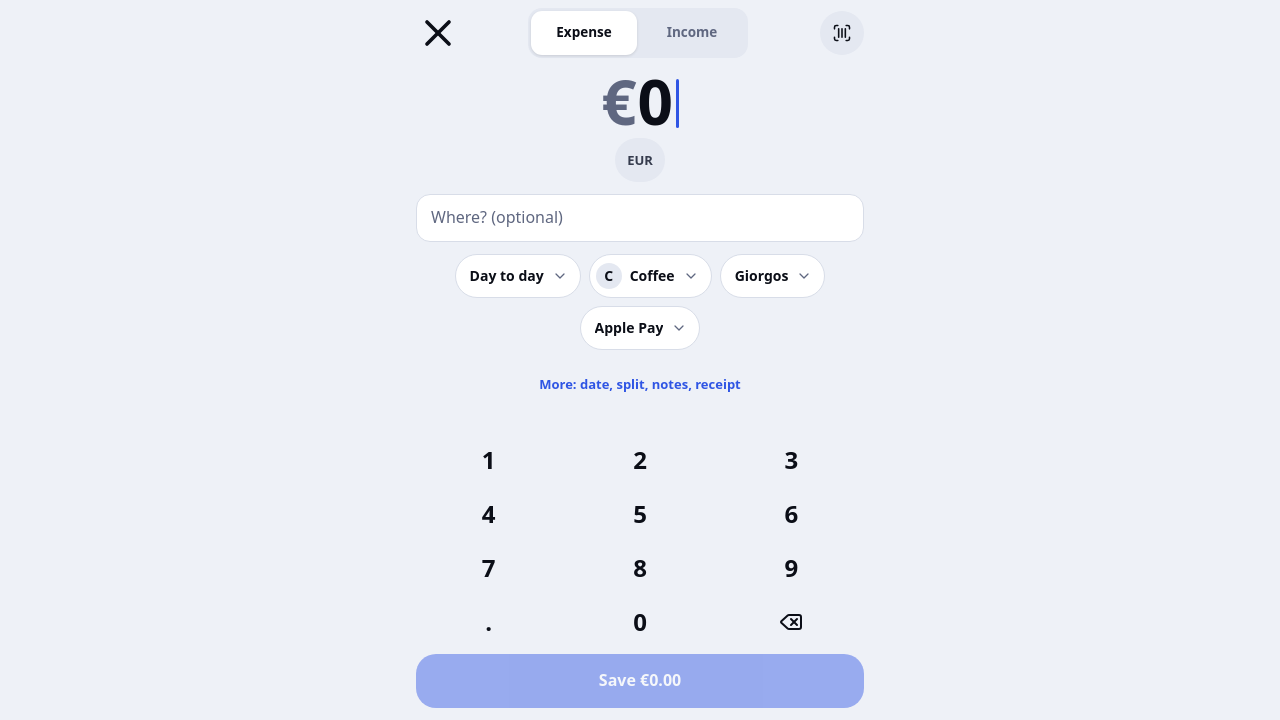
it: picking the currency from More goes back to More
Click the button with aria-label "More options" at (640, 384), box [527,362,753,406]
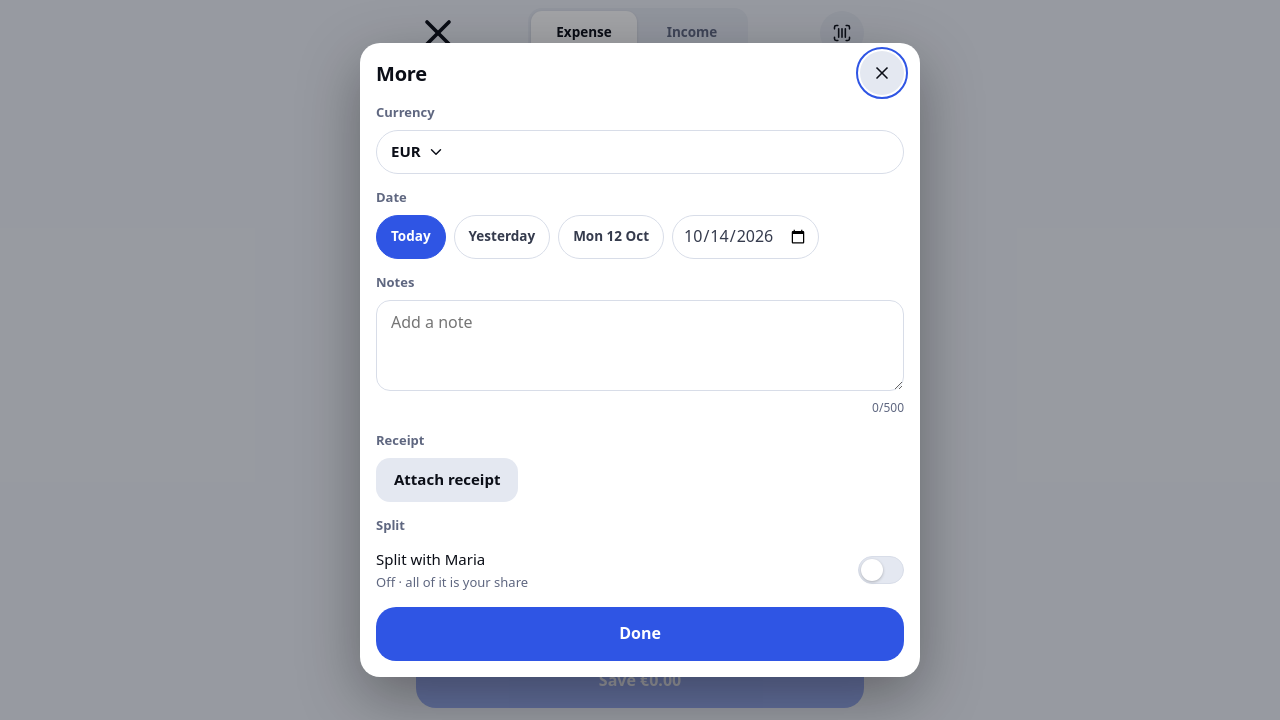
Click the button with aria-label "Currency: EUR. Change" at (406, 151), box [376,130,904,174]
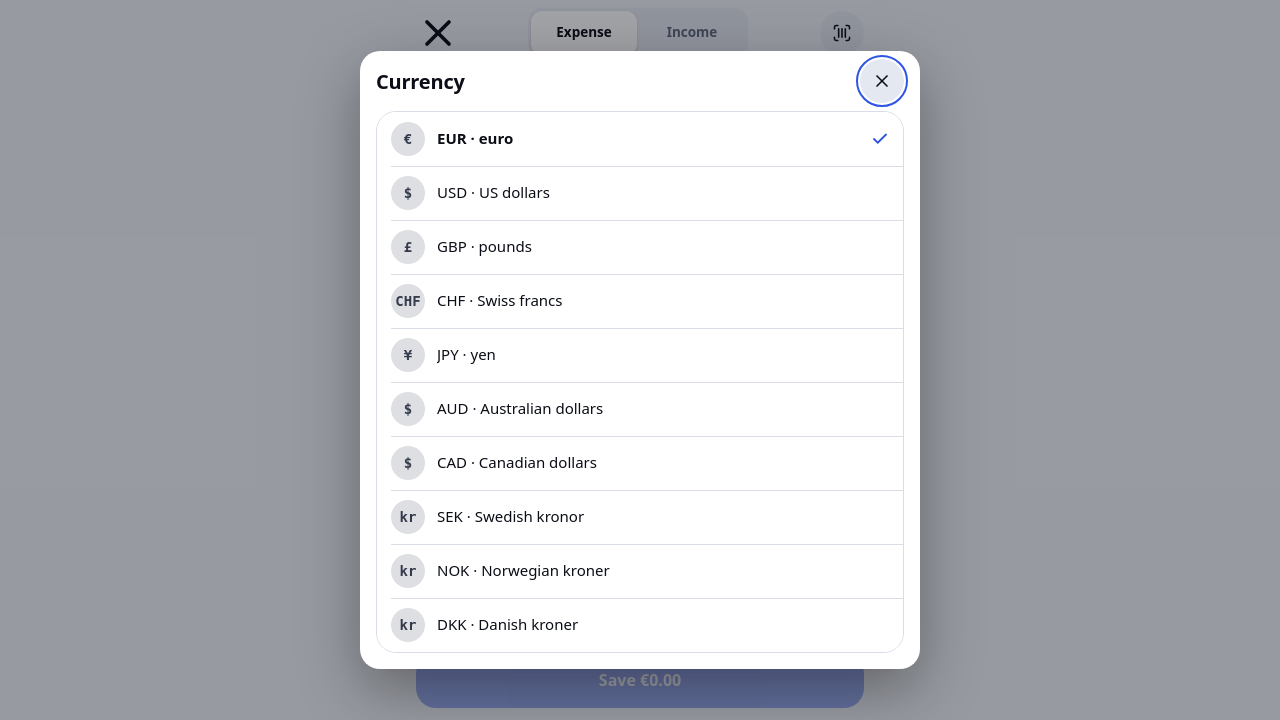
Click the button "£ GBP · pounds" at (408, 247), box [377,220,903,274]
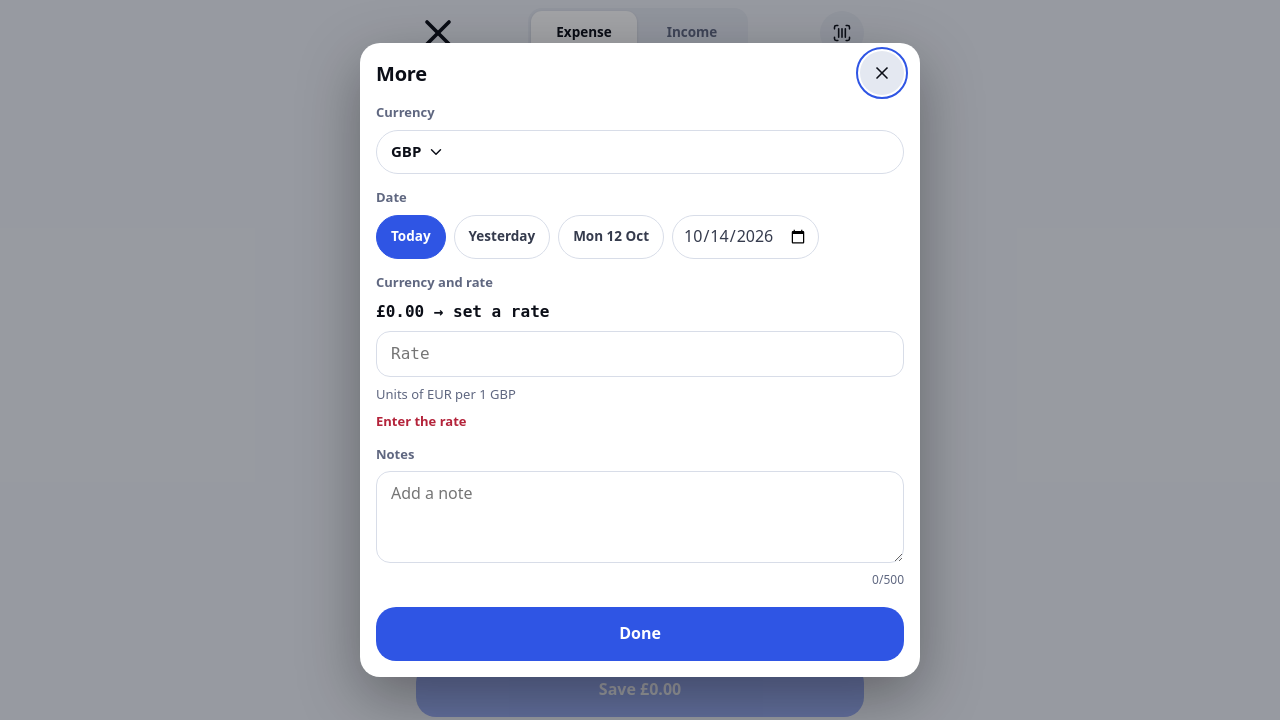
Expected: the field labelled "Rate" is shown, [376,331,904,377]
